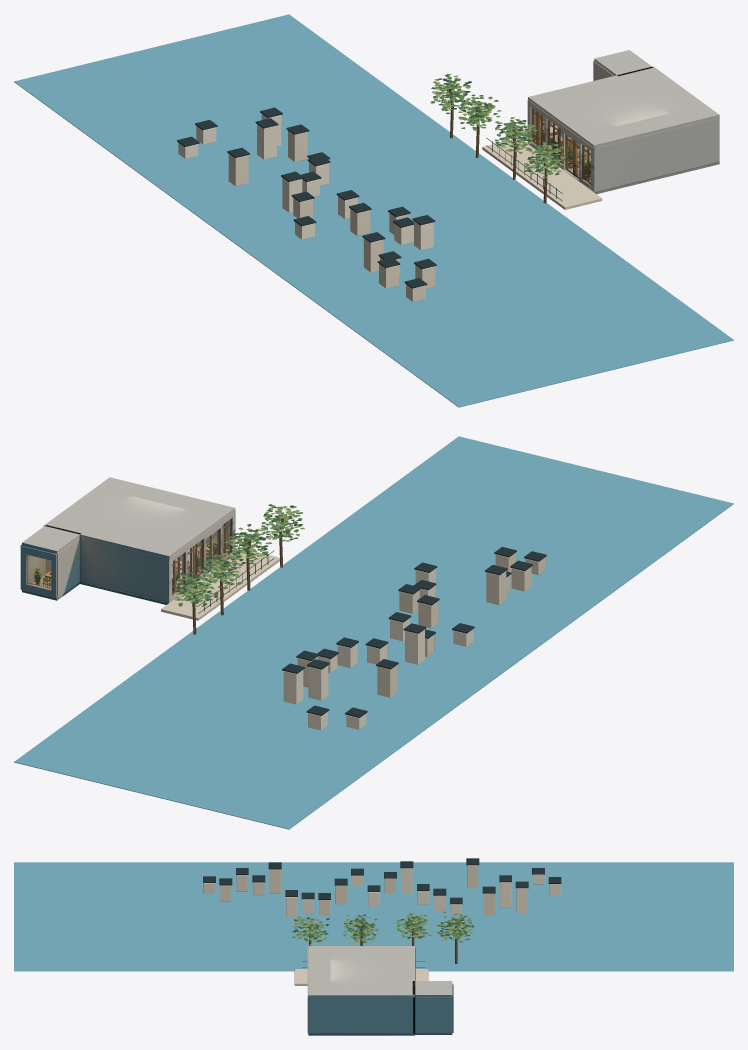
Rendered from room.glb.
3 renders of one model, top to bottom at view 1: azimuth 30°, elevation 25°; view 2: azimuth 150°, elevation 25°; view 3: azimuth 270°, elevation 25°, orthographic. The views are drawn at different scales.
Visible parts, largest first — view 1: exterior sea blue, baked-shell, exterior ivory glaze, exterior warm plaster, exterior blue black metal, exterior ivory stone countertop, glass, baked-interior, exterior leaf 0, exterior leaf 1, exterior leaf 2, exterior leaf 3 (+1 smaller); view 2: exterior sea blue, baked-shell, exterior ivory glaze, exterior warm plaster, exterior blue black metal, exterior ivory stone countertop, glass, baked-interior, exterior leaf 4, exterior leaf 0, exterior leaf 3, exterior leaf 2 (+1 smaller); view 3: exterior sea blue, baked-shell, exterior ivory glaze, exterior blue black metal, exterior warm plaster, exterior leaf 1, exterior leaf 4, exterior leaf 0, exterior leaf 3, exterior leaf 2, exterior ivory stone countertop.
Part boxes in pixels (x1=…): exterior sea blue: x1=14, y1=14, x2=733, y2=407; baked-shell: x1=527, y1=50, x2=719, y2=193; exterior ivory glaze: x1=178, y1=114, x2=433, y2=250; exterior warm plaster: x1=228, y1=130, x2=435, y2=301; exterior blue black metal: x1=177, y1=107, x2=562, y2=288; exterior ivory stone countertop: x1=482, y1=139, x2=602, y2=209; glass: x1=532, y1=108, x2=590, y2=183; baked-interior: x1=531, y1=108, x2=590, y2=184; exterior leaf 0: x1=433, y1=76, x2=565, y2=177; exterior leaf 1: x1=434, y1=74, x2=565, y2=170; exterior leaf 2: x1=430, y1=75, x2=564, y2=175; exterior leaf 3: x1=433, y1=81, x2=563, y2=174; exterior sea blue: x1=14, y1=436, x2=733, y2=829; baked-shell: x1=20, y1=477, x2=235, y2=604; exterior ivory glaze: x1=283, y1=568, x2=473, y2=730; exterior warm plaster: x1=297, y1=553, x2=545, y2=697; exterior blue black metal: x1=198, y1=547, x2=546, y2=717; exterior ivory stone countertop: x1=161, y1=552, x2=279, y2=620; glass: x1=27, y1=519, x2=230, y2=594; baked-interior: x1=27, y1=519, x2=231, y2=595; exterior leaf 4: x1=176, y1=504, x2=302, y2=605; exterior leaf 0: x1=174, y1=510, x2=298, y2=606; exterior leaf 3: x1=176, y1=505, x2=304, y2=606; exterior leaf 2: x1=174, y1=506, x2=299, y2=606; exterior sea blue: x1=14, y1=862, x2=733, y2=971; baked-shell: x1=307, y1=946, x2=453, y2=1035; exterior ivory glaze: x1=286, y1=868, x2=560, y2=917; exterior blue black metal: x1=203, y1=858, x2=561, y2=967; exterior warm plaster: x1=203, y1=865, x2=494, y2=915; exterior leaf 1: x1=294, y1=911, x2=470, y2=941; exterior leaf 4: x1=292, y1=914, x2=474, y2=942; exterior leaf 0: x1=292, y1=914, x2=473, y2=942; exterior leaf 3: x1=293, y1=915, x2=472, y2=942; exterior leaf 2: x1=292, y1=913, x2=472, y2=945; exterior ivory stone countertop: x1=294, y1=969, x2=428, y2=985.
Size of what is drawn, in the model's own units: 40.22 by 5.34 by 70.
18 materials, 3 textured.
